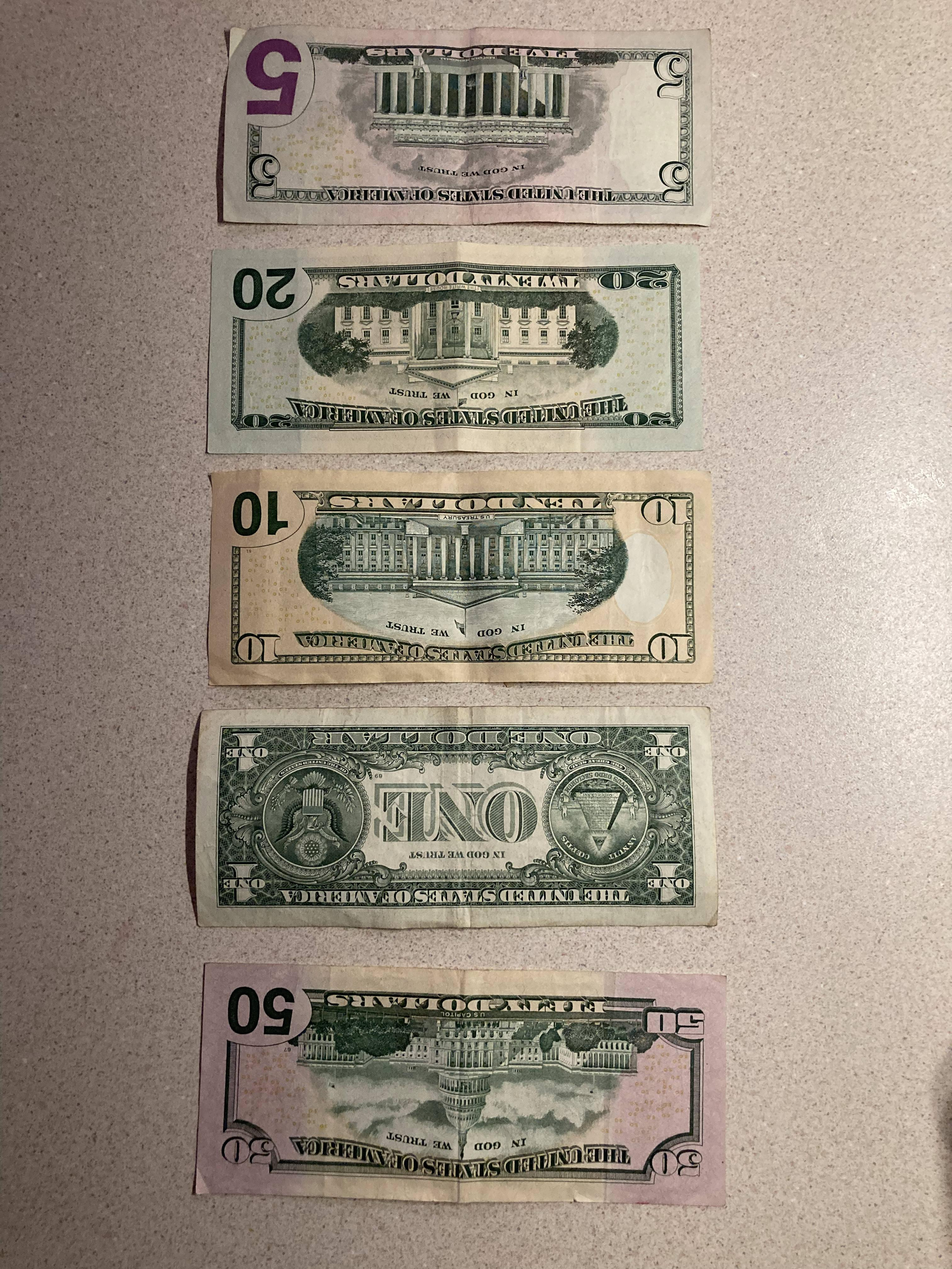fifty-back: (196, 962, 729, 1207)
five-back: (219, 30, 718, 224)
one-back: (195, 706, 719, 928)
ten-back: (205, 467, 715, 687)
twenty-back: (205, 243, 704, 455)
